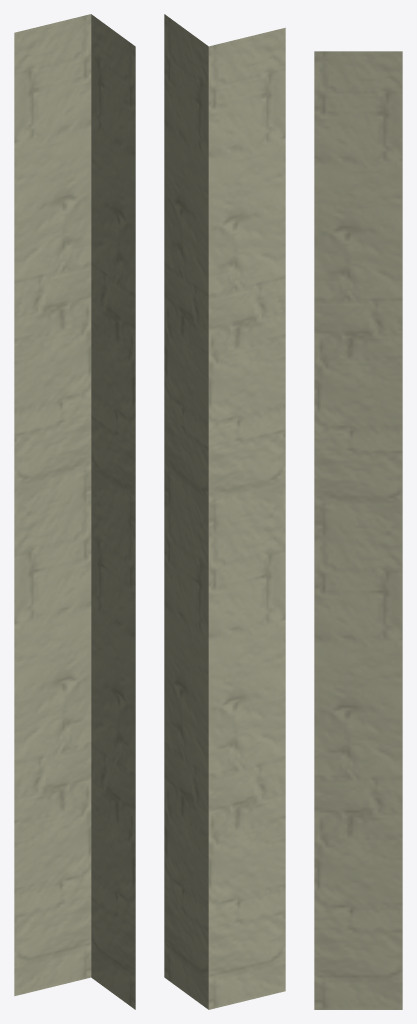
File: corner.fbx
The picture shows the model from 3 angles, left to right: view 1: azimuth 30°, elevation 25°; view 2: azimuth 210°, elevation 25°; view 3: azimuth 270°, elevation 25°; orthographic projection.
Parts seen in each view (by area): view 1: corner; view 2: corner; view 3: corner.
Part boxes in pixels (x1,y1,x2,y2): corner: (14,14,135,1009); corner: (164,14,285,1009); corner: (314,51,402,1009).
Bounding box in the file's own units: 1 × 12 × 1.
1 material, 1 textured.
